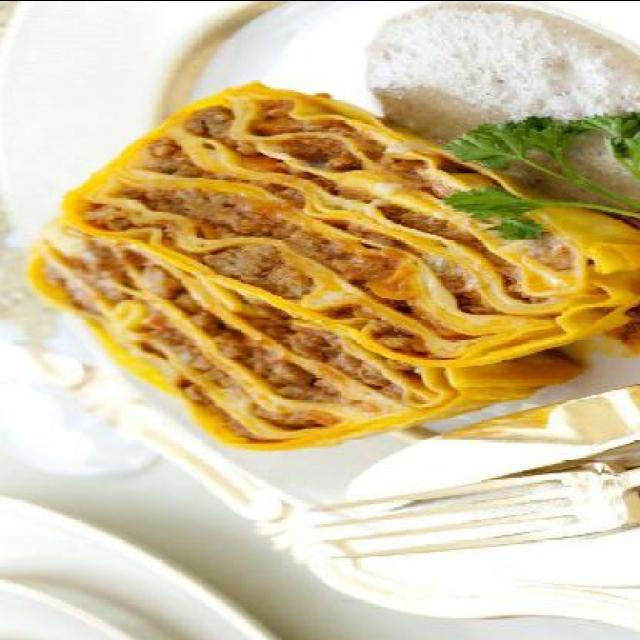Pasta al ragu: (8, 57, 620, 451)
